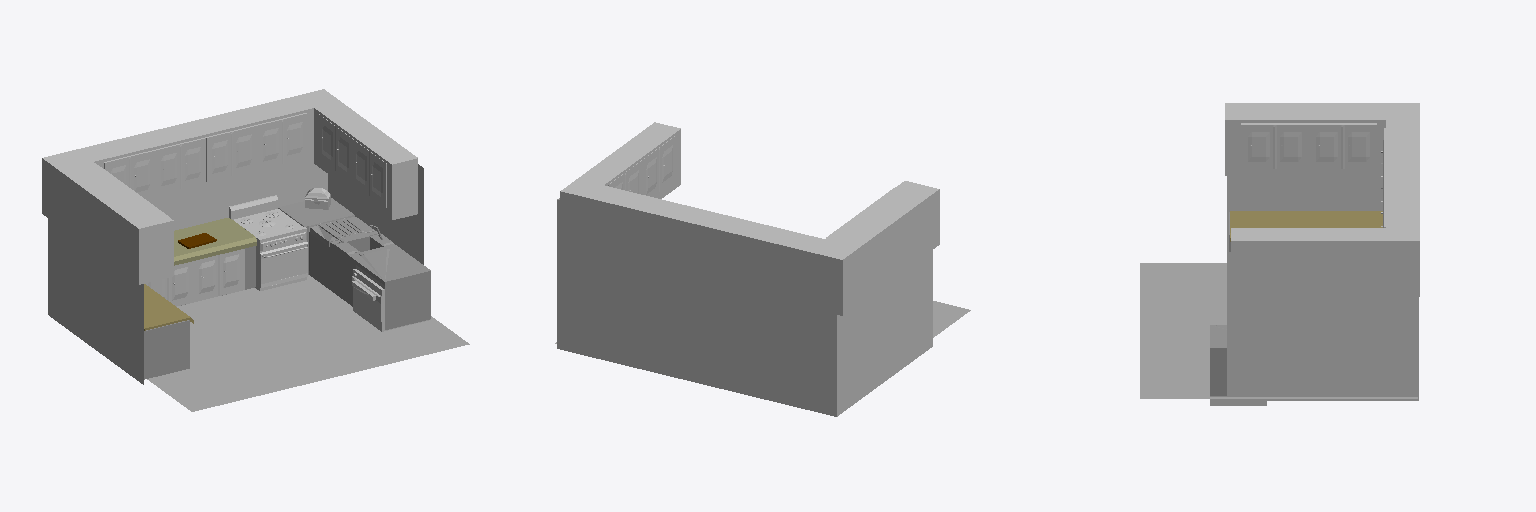
File: kitchen.obj
3 renders of one model, left to right at view 1: azimuth 30°, elevation 25°; view 2: azimuth 150°, elevation 25°; view 3: azimuth 270°, elevation 25°, orthographic.
Visible parts, largest first — view 1: Cube.010, Plane_Plane.001, Plane.001_Plane, Cube, Cube.001, Cube.012, Cube.011, Cube.008, Cube.013, Cube.005, Cube.002, Cube.006; view 2: Plane.001_Plane, Cube.010, Cube.013, Plane_Plane.001; view 3: Plane.001_Plane, Cube.010, Plane_Plane.001, Cube.014, Cube.006, Cube.
Part boxes in pixels (x1,y1,x2,y2): Cube.010: (42, 89, 417, 284); Plane_Plane.001: (147, 275, 469, 411); Plane.001_Plane: (48, 164, 423, 384); Cube: (144, 198, 430, 379); Cube.001: (229, 194, 307, 290); Cube.012: (206, 113, 307, 181); Cube.011: (104, 137, 205, 197); Cube.008: (145, 249, 244, 306); Cube.013: (318, 114, 386, 207); Cube.005: (174, 218, 256, 265); Cube.002: (352, 265, 430, 331); Cube.006: (144, 284, 193, 330); Plane.001_Plane: (557, 198, 932, 416); Cube.010: (560, 122, 939, 315); Cube.013: (608, 135, 676, 196); Plane_Plane.001: (555, 301, 970, 343); Plane.001_Plane: (1227, 176, 1418, 400); Cube.010: (1225, 103, 1419, 296); Plane_Plane.001: (1140, 263, 1417, 398); Cube.014: (1241, 123, 1376, 168); Cube.006: (1230, 211, 1382, 241); Cube: (1210, 212, 1230, 395).
Bounding box in the file's own units: 12.48 × 6.79 × 10.45.